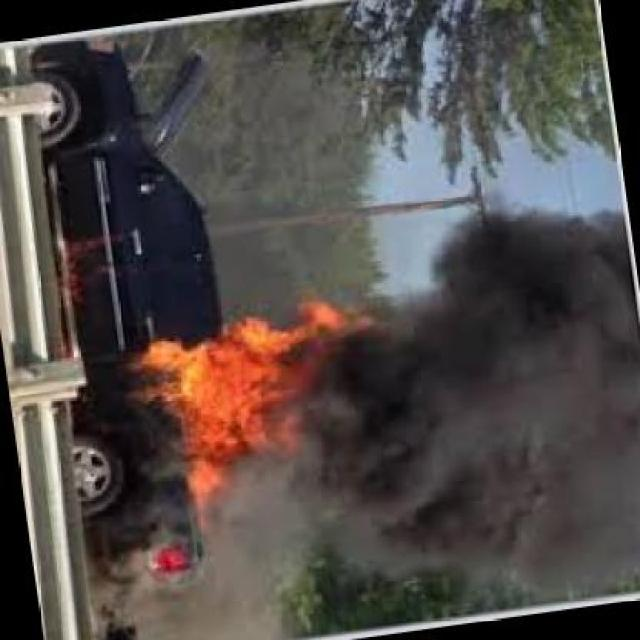Fire: (130, 291, 308, 492)
Smoke: (318, 190, 638, 578), (185, 507, 319, 628)
